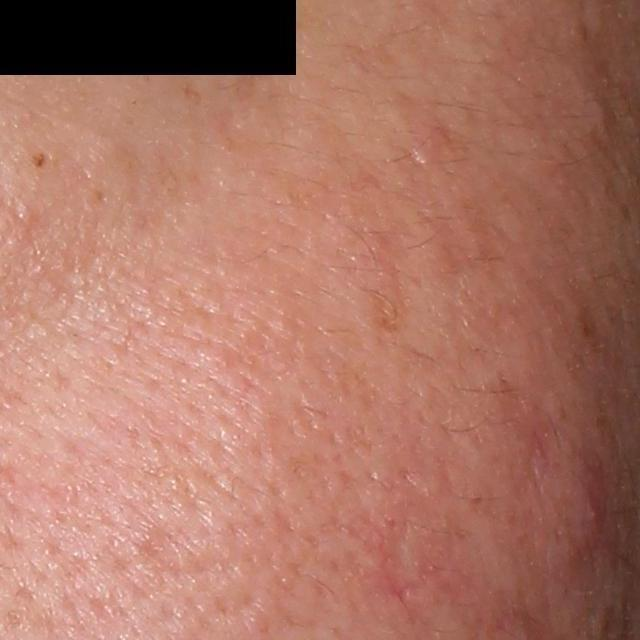nevus: (28, 151, 51, 172)
